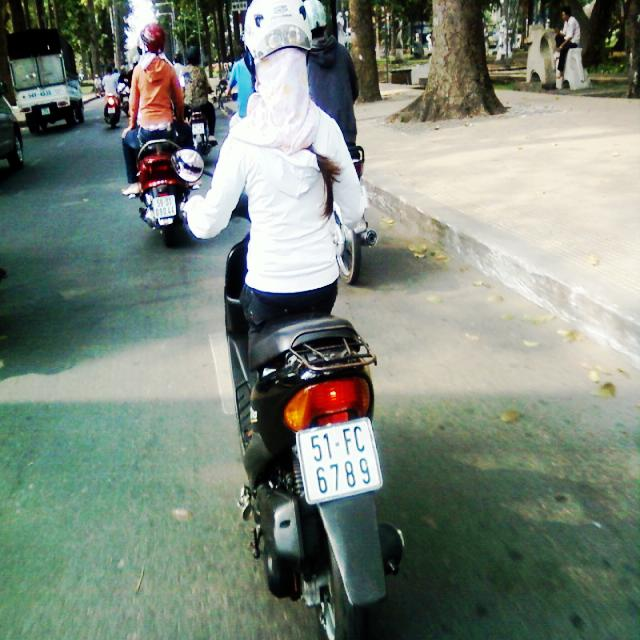license_plate: (302, 419, 384, 503), (155, 196, 177, 220)
